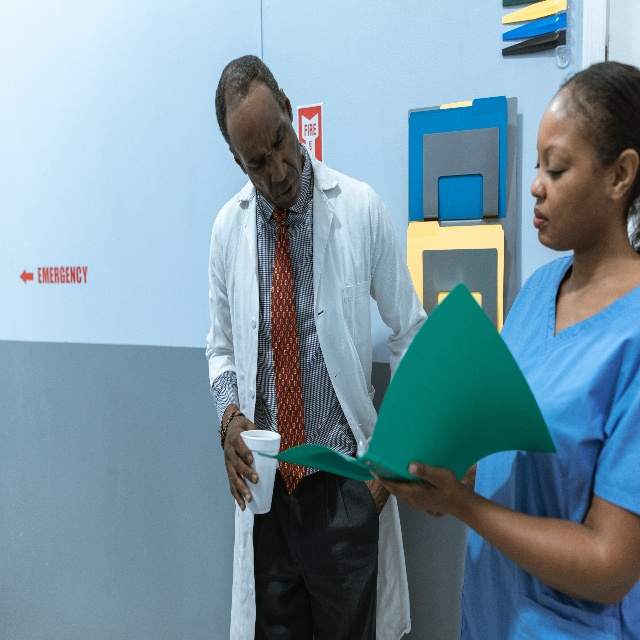Sin_guantes: (369, 460, 456, 518), (224, 415, 259, 513), (365, 478, 390, 514)
